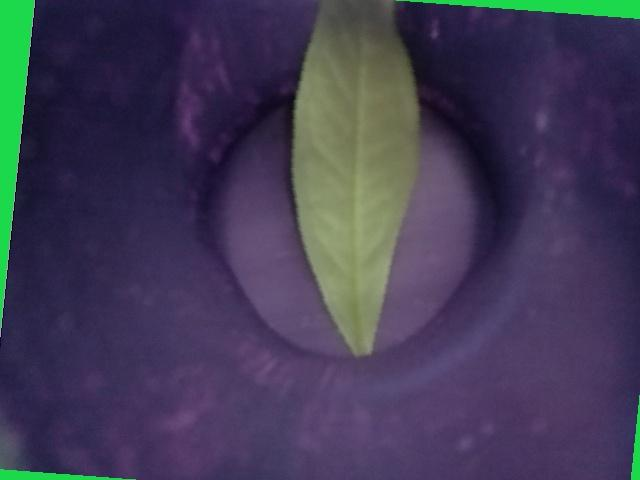feuille: (261, 1, 438, 373)
